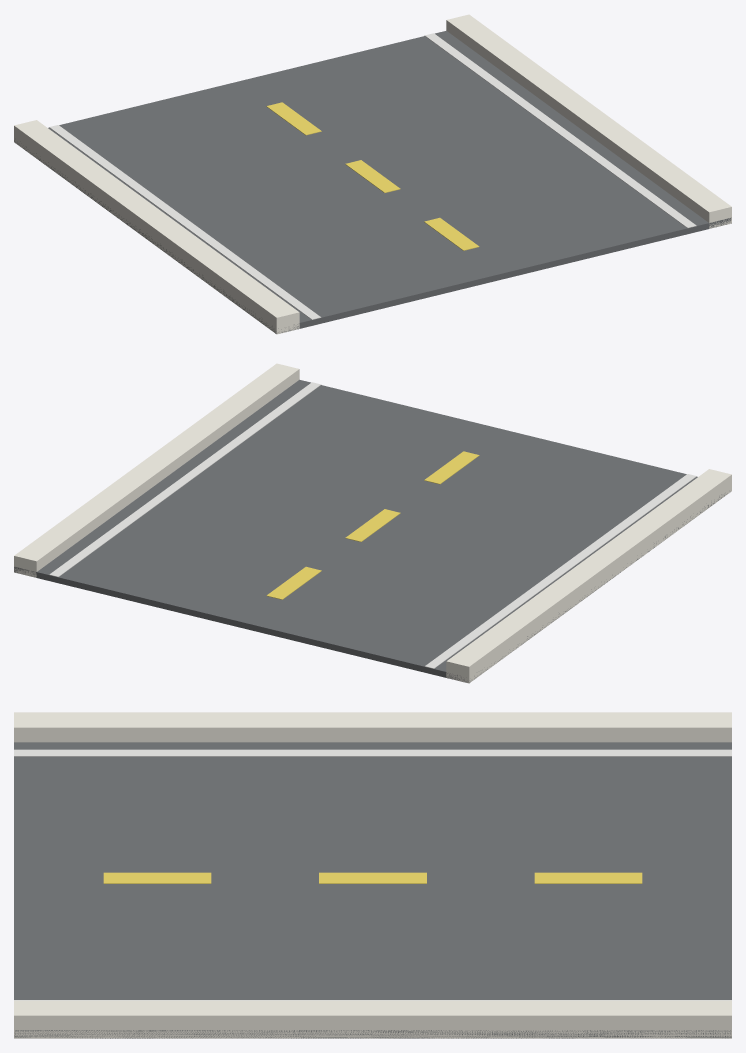
The model's file is ModularRoad_Straight.fbx.
3 views of the same model, one above another, from view 1: azimuth 30°, elevation 25°; view 2: azimuth 150°, elevation 25°; view 3: azimuth 270°, elevation 25° (orthographic). The views are drawn at different scales.
Parts seen in each view (by area): view 1: Road_Surface, Curb_L, Curb_R, Line_Edge_L, Line_Edge_R, Lane_Yellow_-1.2, Lane_Yellow_1.2, Lane_Yellow_0.0; view 2: Road_Surface, Curb_L, Curb_R, Line_Edge_R, Line_Edge_L, Lane_Yellow_1.2, Lane_Yellow_-1.2, Lane_Yellow_0.0; view 3: Road_Surface, Curb_R, Curb_L, Line_Edge_L, Lane_Yellow_-1.2, Lane_Yellow_1.2, Lane_Yellow_0.0, Line_Edge_R.
Boxes of the visible parts, left/top/right/bottom form: Road_Surface: left=14, top=30, right=731, bottom=333; Curb_L: left=14, top=120, right=299, bottom=334; Curb_R: left=446, top=14, right=731, bottom=228; Line_Edge_L: left=49, top=125, right=321, bottom=319; Line_Edge_R: left=424, top=33, right=696, bottom=228; Lane_Yellow_-1.2: left=424, top=217, right=479, bottom=250; Lane_Yellow_1.2: left=266, top=102, right=321, bottom=135; Lane_Yellow_0.0: left=345, top=160, right=400, bottom=192; Road_Surface: left=14, top=379, right=727, bottom=682; Curb_L: left=446, top=469, right=731, bottom=683; Curb_R: left=14, top=363, right=299, bottom=577; Line_Edge_R: left=49, top=382, right=321, bottom=577; Line_Edge_L: left=425, top=474, right=696, bottom=668; Lane_Yellow_1.2: left=266, top=566, right=321, bottom=599; Lane_Yellow_-1.2: left=424, top=451, right=479, bottom=484; Lane_Yellow_0.0: left=345, top=509, right=400, bottom=541; Road_Surface: left=14, top=742, right=731, bottom=1038; Curb_R: left=14, top=1000, right=731, bottom=1038; Curb_L: left=14, top=712, right=731, bottom=742; Line_Edge_L: left=14, top=749, right=731, bottom=756; Lane_Yellow_-1.2: left=103, top=872, right=211, bottom=883; Lane_Yellow_1.2: left=534, top=872, right=642, bottom=883; Lane_Yellow_0.0: left=319, top=872, right=426, bottom=883; Line_Edge_R: left=14, top=1000, right=731, bottom=1000.
Size of the model in its own units: 400 by 14 by 400.
